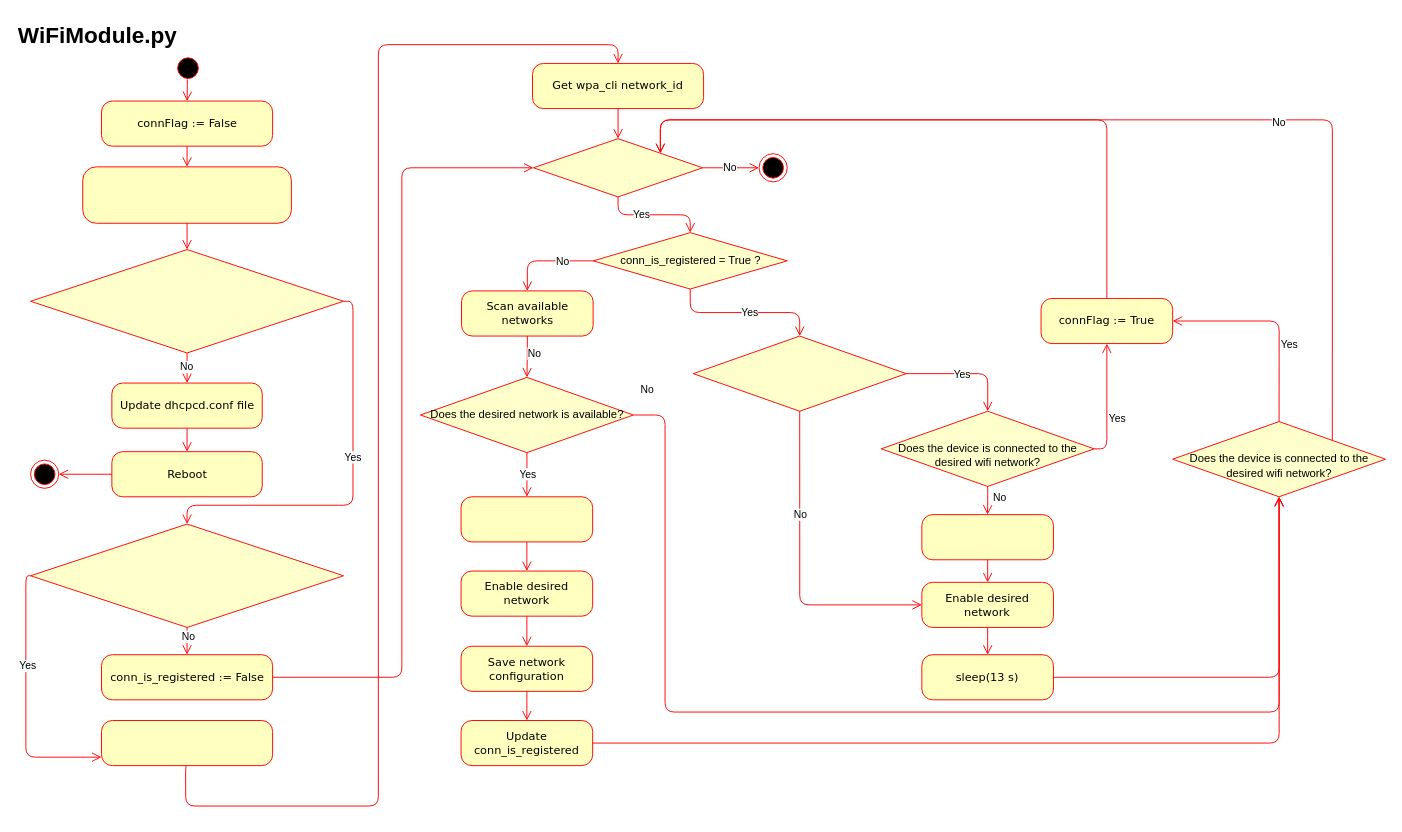
The diagram is 1402 pixels wide and 832 high, and some of its shapes have lost their labels. The shapes that lost their labels are listed below. From the top down, each one's box as (x1, y1, x2, y2) in pixels, then its label:
(533, 138, 703, 197): connFlag = False ?
(82, 166, 291, 223): Define ssid, psw, ip, subnet mask, gateway, DNS
(30, 249, 344, 353): Does dhcpcd.conf file is configured for IP (static or dynamic) requirement?
(692, 335, 906, 411): Does the device is connected to a wifi network?
(460, 496, 593, 542): Add network with desired ssid and given password
(921, 514, 1053, 560): Disable current network
(30, 523, 344, 627): Does wpa_cli -iwlan0 list_networks includes the desired ssid?
(101, 720, 273, 766): conn_is_registered := True
